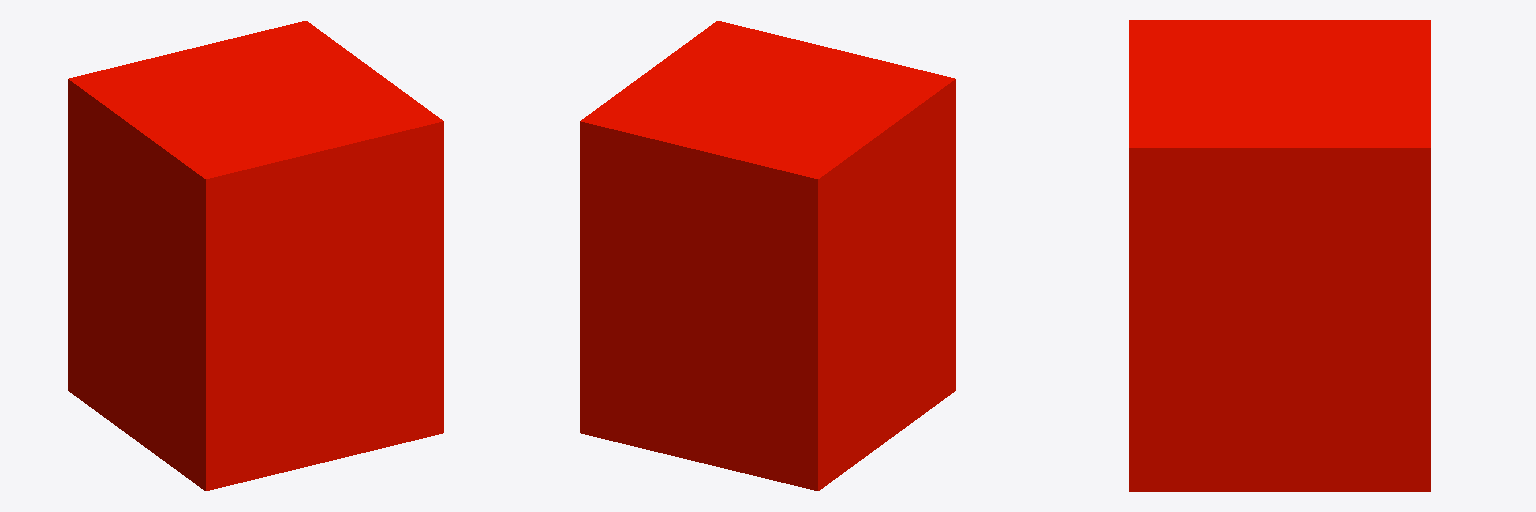
URDF robot description (blue_can):
<robot name="blue_can">

` <link name="can">
    <contact>
      <lateral_friction value="1"/>
    </contact>
    <inertial>
      <mass value="0.01"/>
      <inertia ixx="1.0" ixy="0.0" ixz="0.0" iyy="1.0" iyz="0.0" izz="1.0"/>
    </inertial>
    <visual>
      <origin rpy="0 0 0" xyz="0 0 0"/>
      <geometry>
        <box size = "0.12 0.12 0.15"/>
      </geometry>
      <material name = "red">
        <color rgba="1.0 0.1 0.0 1"/>
      </material>
    </visual>
    <collision>
      <origin rpy="0 0 0" xyz="0 0 0"/>
      <geometry>
        <box size = "0.1 0.1 0.15"/>
      </geometry>
    </collision>
  </link>

</robot>

--- Render facts (derived) ---
The picture shows the robot from 3 angles, left to right: view 1: azimuth 30°, elevation 25°; view 2: azimuth 150°, elevation 25°; view 3: azimuth 270°, elevation 25°; orthographic projection.
Model blue_can with 1 links and 0 joints (none), rooted at can, posed all joints at 0.
Visible links, largest first — view 1: can; view 2: can; view 3: can.
Boxes of the visible links, x1,y1,x2,y2 form: can: [68, 21, 443, 490]; can: [580, 21, 955, 490]; can: [1129, 20, 1430, 491].
Bounding box of the posed robot: 0.12 × 0.12 × 0.15 m (x, y, z).
Geometry: primitives only (box / cylinder / sphere), no mesh files.